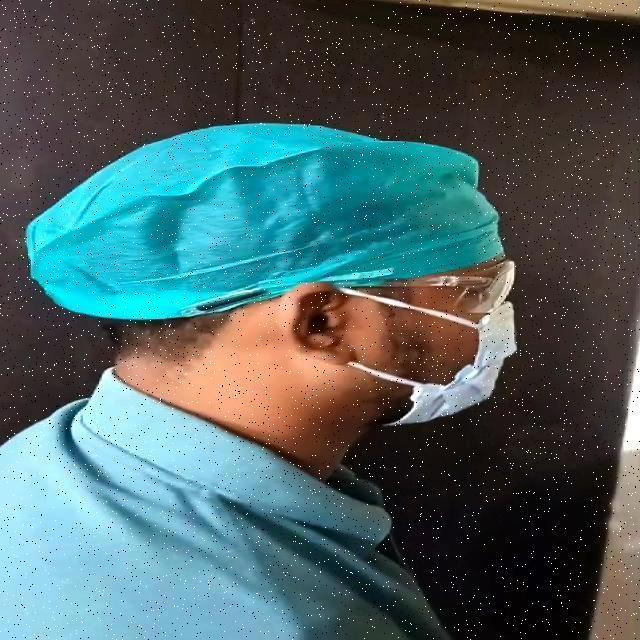gloves: (28, 119, 490, 314)
